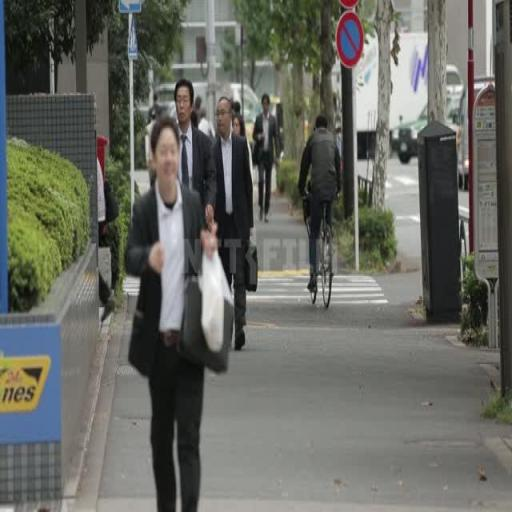person: (129, 111, 217, 512), (208, 99, 257, 354), (299, 112, 344, 293), (170, 78, 213, 226), (254, 93, 283, 226)
